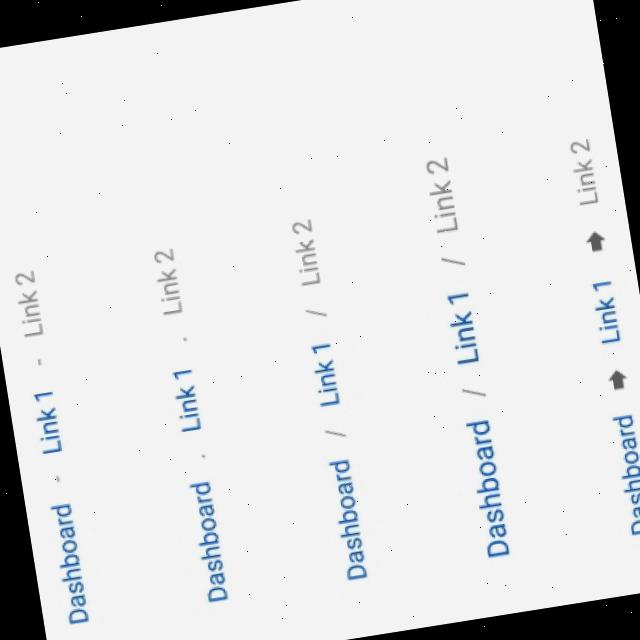VBreadcrumbs: (420, 144, 517, 560), (6, 258, 102, 632), (288, 214, 373, 585), (566, 134, 640, 539), (150, 244, 233, 605)
